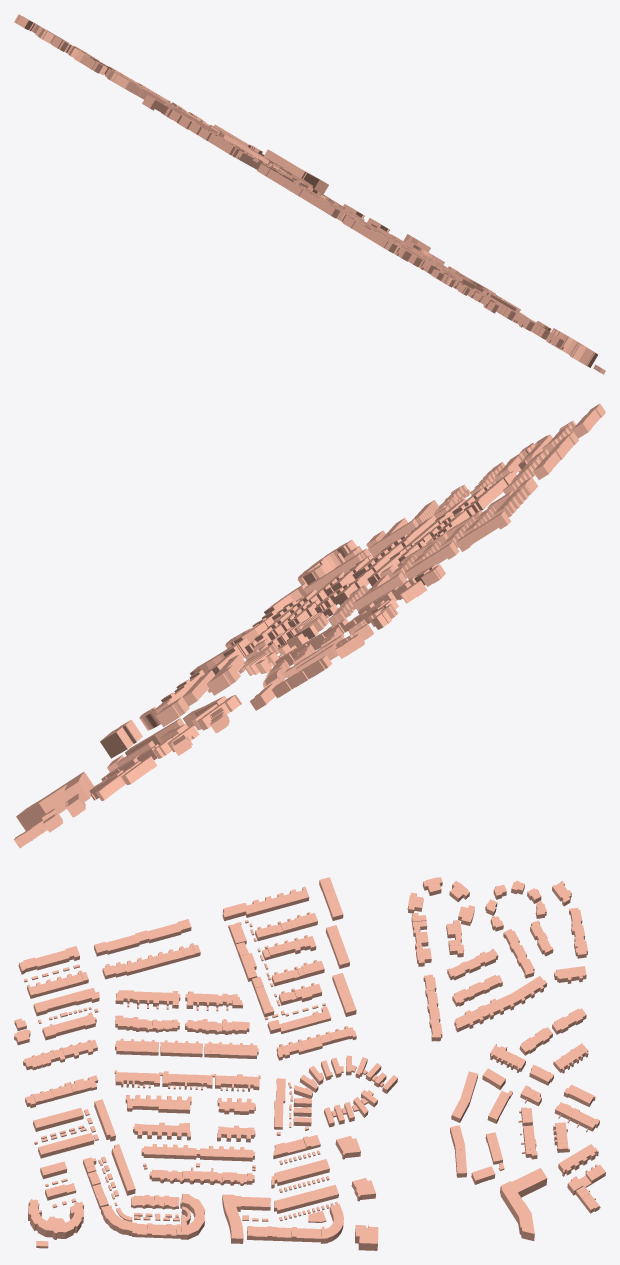
The picture shows the model from 3 angles, top to bottom: view 1: azimuth 30°, elevation 25°; view 2: azimuth 150°, elevation 25°; view 3: azimuth 270°, elevation 25°; orthographic projection. The views are drawn at different scales.
Bounding box in the file's own units: 362 × 273 × 615.
